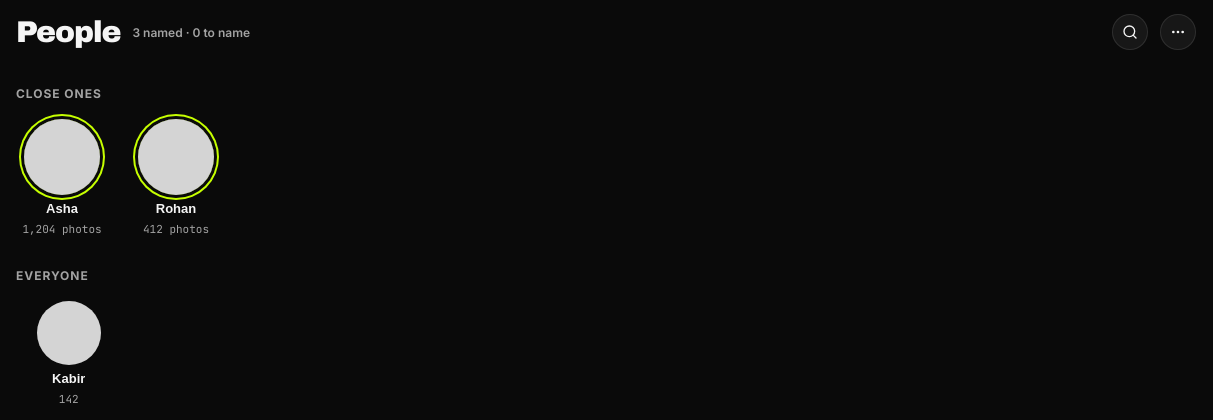
Test: Person page rename › renames a person by clicking the name, but not to a name someone else already has
Click the button "Rohan 412 photos": (176, 178) [130,113,222,242]
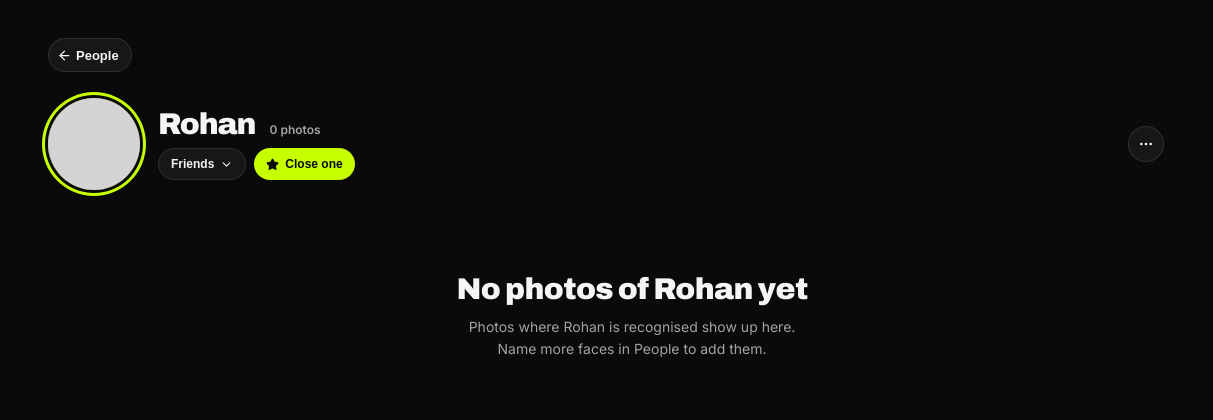
Click the button titled "Click to rename": (207, 124) [158,108,256,140]
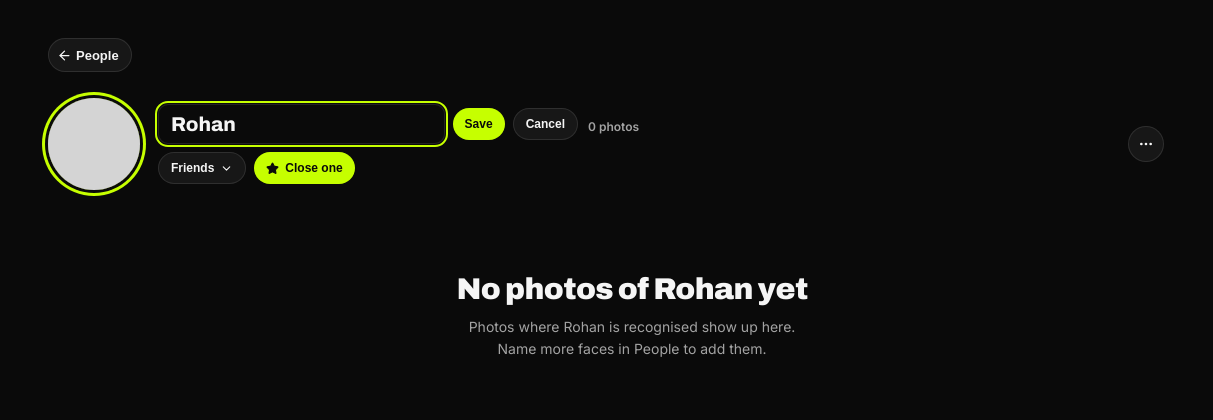
Replace the text in the field named "Name" with "asha": (301, 124) [158,104,445,144]
Click the button "Save": (479, 124) [453,108,505,140]
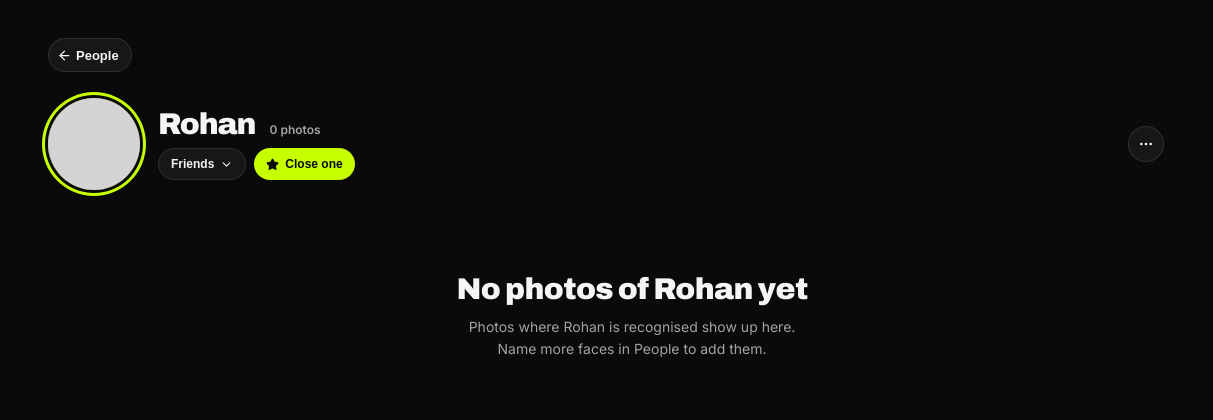
Click the button titled "Click to rename": (207, 124) [158,108,256,140]
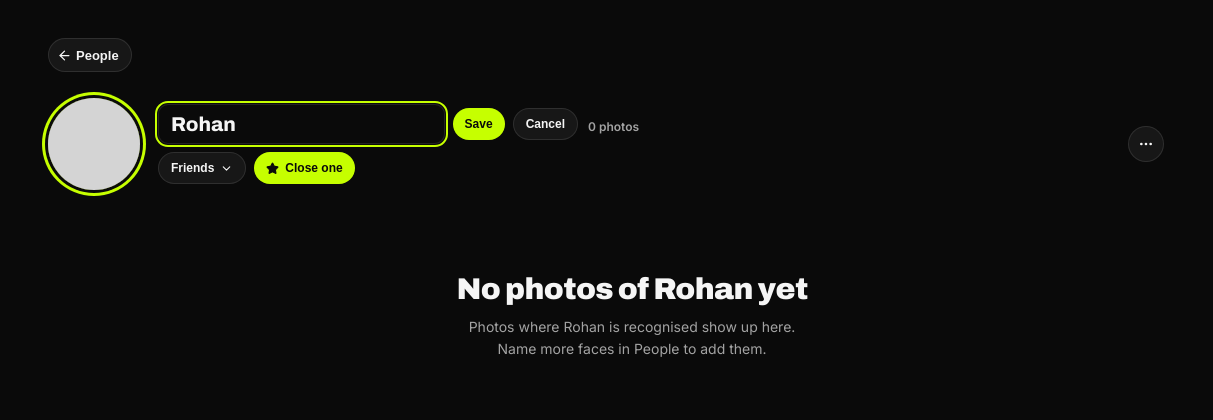
Replace the text in the field named "Name" with "Rohan K": (301, 124) [158,104,445,144]
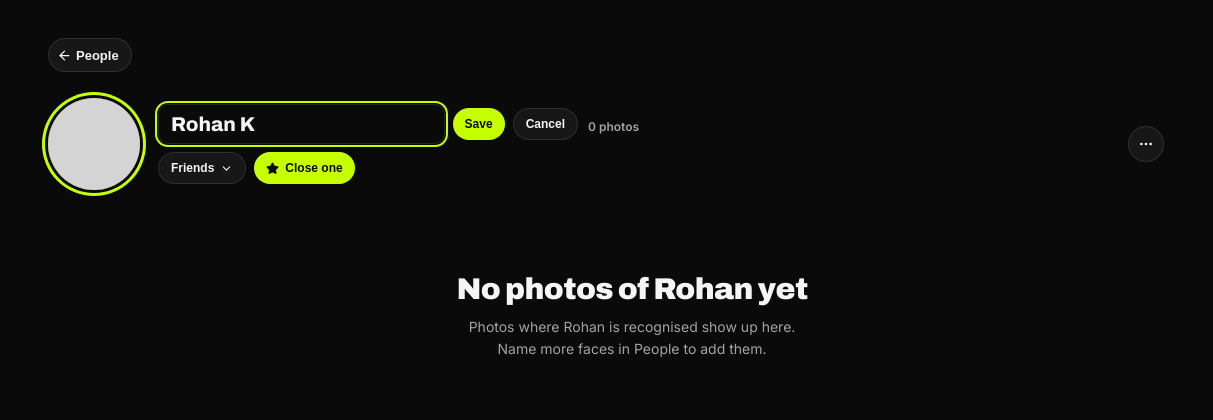
Click the button "Save": (479, 124) [453,108,505,140]
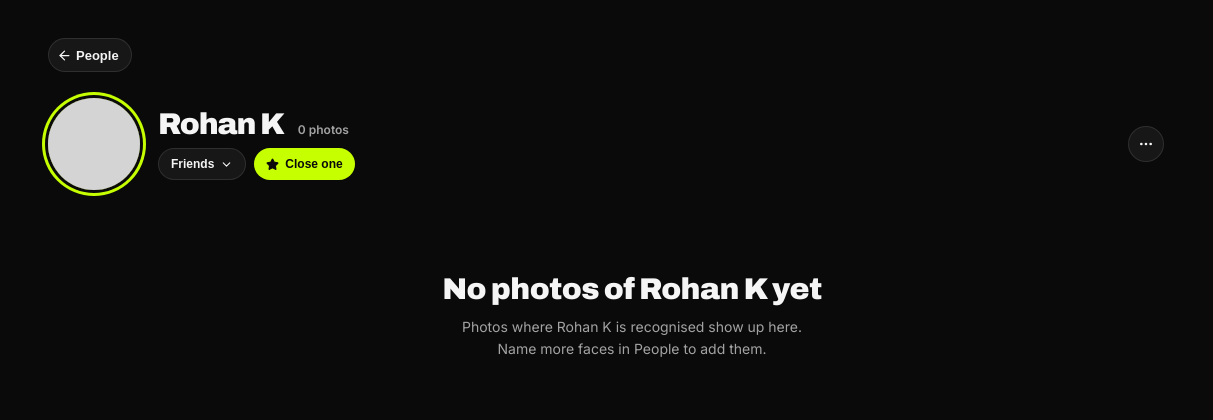
Result: the heading "Rohan K" is shown at [158,108,284,140]
